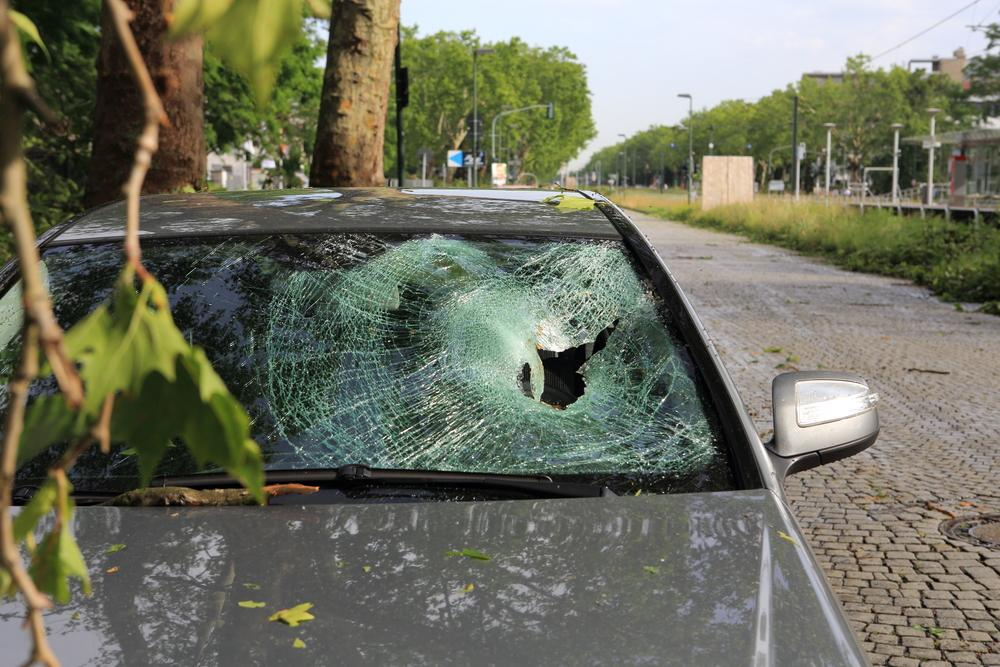glass shatter: (141, 233, 750, 495)
